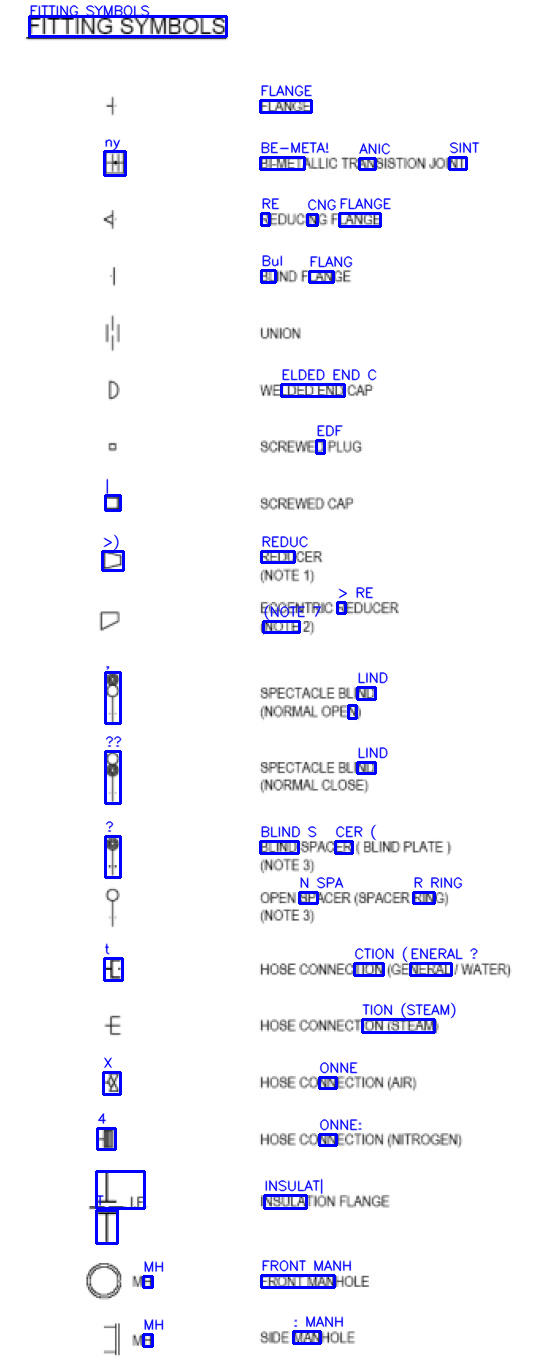Conexão: (84, 1166, 129, 1246), (84, 1261, 123, 1301), (99, 667, 123, 724), (99, 309, 127, 357), (103, 749, 120, 806), (99, 147, 129, 177), (101, 87, 125, 122), (102, 887, 122, 929), (100, 1321, 123, 1357), (104, 832, 121, 875), (99, 954, 126, 981), (103, 262, 126, 292), (96, 606, 122, 632), (100, 1011, 126, 1037), (92, 1126, 119, 1151), (99, 1069, 122, 1098), (100, 547, 126, 572), (100, 490, 124, 514), (104, 376, 124, 404), (102, 209, 122, 232), (101, 436, 122, 457)
